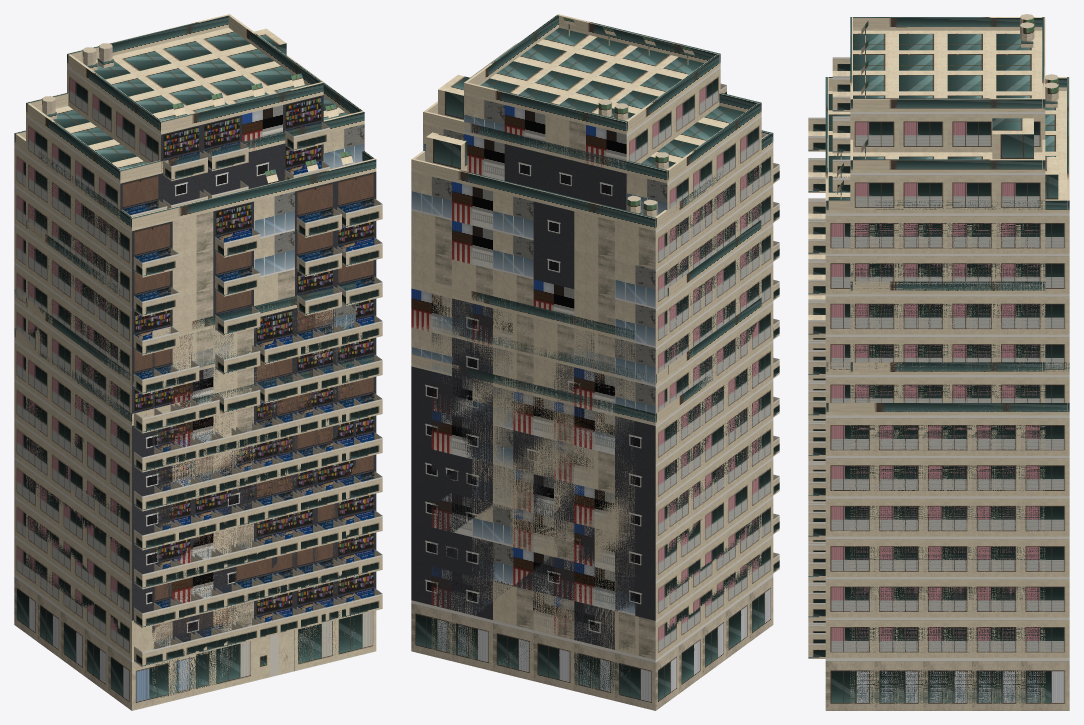
3 views of the same model, side by side, from view 1: azimuth 30°, elevation 25°; view 2: azimuth 150°, elevation 25°; view 3: azimuth 270°, elevation 25° (orthographic). The views are drawn at different scales.
Visible parts, largest first — view 1: Modern_6x5_f11_v0, Modern_6x5_f6_v1, Modern_4x5_f8_v0, Modern_5x5_f6_v0, Modern_4x4_f13_v1, Modern_6x4_f12_v1, Modern_6x4_f7_v1, Modern_5x5_f8_v1, Modern_6x4_f9_v1, Modern_6x3_f7_v0, Modern_6x5_f7_v0, Modern_5x5_f8_v0; view 2: Modern_6x5_f6_v1, Modern_4x5_f8_v0, Modern_6x5_f11_v0, Modern_5x5_f6_v0, Modern_4x4_f13_v1, Modern_6x4_f12_v1, Modern_6x4_f7_v1, Modern_5x5_f8_v1, Modern_6x4_f9_v1, Modern_6x5_f7_v0, Modern_6x3_f7_v0; view 3: Modern_6x5_f6_v1, Modern_6x4_f7_v1, Modern_6x5_f11_v0, Modern_6x4_f12_v1, Modern_4x4_f13_v1, Modern_6x4_f9_v1, Modern_6x3_f7_v0, Modern_5x5_f6_v0, Modern_6x5_f7_v0, Modern_5x5_f8_v0.
Part boxes in pixels (left/top/right/bottom): Modern_6x5_f11_v0: left=14, top=130, right=382, bottom=667; Modern_6x5_f6_v1: left=14, top=328, right=382, bottom=710; Modern_4x5_f8_v0: left=172, top=288, right=341, bottom=700; Modern_5x5_f6_v0: left=152, top=383, right=362, bottom=705; Modern_4x4_f13_v1: left=67, top=14, right=329, bottom=208; Modern_6x4_f12_v1: left=26, top=28, right=364, bottom=299; Modern_6x4_f7_v1: left=26, top=297, right=120, bottom=630; Modern_5x5_f8_v1: left=152, top=281, right=355, bottom=428; Modern_6x4_f9_v1: left=26, top=220, right=120, bottom=376; Modern_6x3_f7_v0: left=38, top=308, right=108, bottom=407; Modern_6x5_f7_v0: left=14, top=289, right=367, bottom=423; Modern_5x5_f8_v0: left=317, top=320, right=362, bottom=384; Modern_6x5_f6_v1: left=411, top=329, right=773, bottom=710; Modern_4x5_f8_v0: left=452, top=289, right=614, bottom=700; Modern_6x5_f11_v0: left=411, top=130, right=779, bottom=573; Modern_5x5_f6_v0: left=431, top=369, right=635, bottom=700; Modern_4x4_f13_v1: left=464, top=14, right=726, bottom=172; Modern_6x4_f12_v1: left=423, top=43, right=767, bottom=293; Modern_6x4_f7_v1: left=667, top=297, right=761, bottom=632; Modern_5x5_f8_v1: left=431, top=281, right=635, bottom=418; Modern_6x4_f9_v1: left=667, top=220, right=761, bottom=365; Modern_6x5_f7_v0: left=412, top=323, right=674, bottom=386; Modern_6x3_f7_v0: left=679, top=314, right=749, bottom=392; Modern_6x5_f6_v1: left=808, top=403, right=1069, bottom=710; Modern_6x4_f7_v1: left=850, top=362, right=1045, bottom=710; Modern_6x5_f11_v0: left=808, top=74, right=1069, bottom=416; Modern_6x4_f12_v1: left=832, top=118, right=1045, bottom=294; Modern_4x4_f13_v1: left=832, top=14, right=1045, bottom=153; Modern_6x4_f9_v1: left=850, top=281, right=1045, bottom=374; Modern_6x3_f7_v0: left=875, top=362, right=1020, bottom=414; Modern_5x5_f6_v0: left=808, top=416, right=825, bottom=643; Modern_6x5_f7_v0: left=825, top=362, right=1069, bottom=374; Modern_5x5_f8_v0: left=808, top=335, right=825, bottom=400.
Size of the model in its own units: 21 by 47.35 by 18.75.
1 material, 1 textured.
